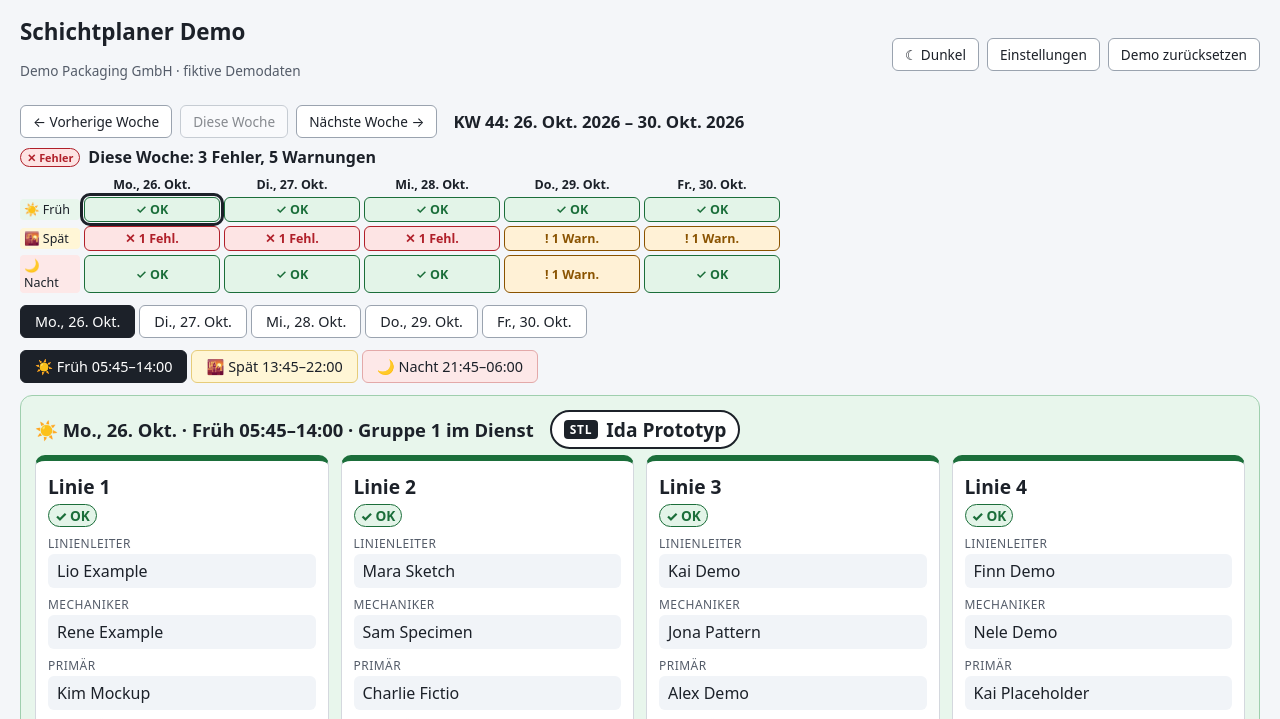
it: empty slots and cover › renders a missing slot as an error with text and an error card header
Step 1. Click the button with aria-label ": Fehler," → [152, 239], box [84,226,220,251]
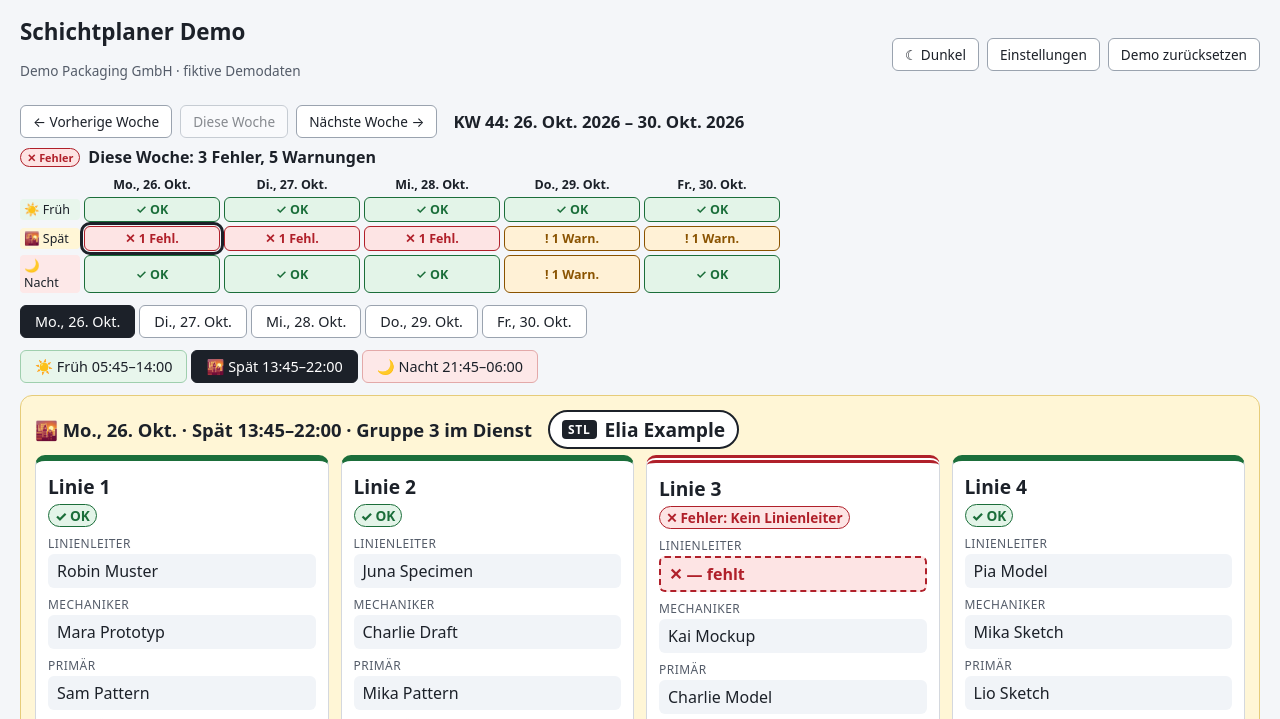
expect the picture named "Status Fehler: Kein " is shown: met, box [659,506,850,529]
expect the button with aria-label ": fehlt (Fehler). Vertretung finden" reads "✕ — fehlt": met, box [659,556,926,592]
